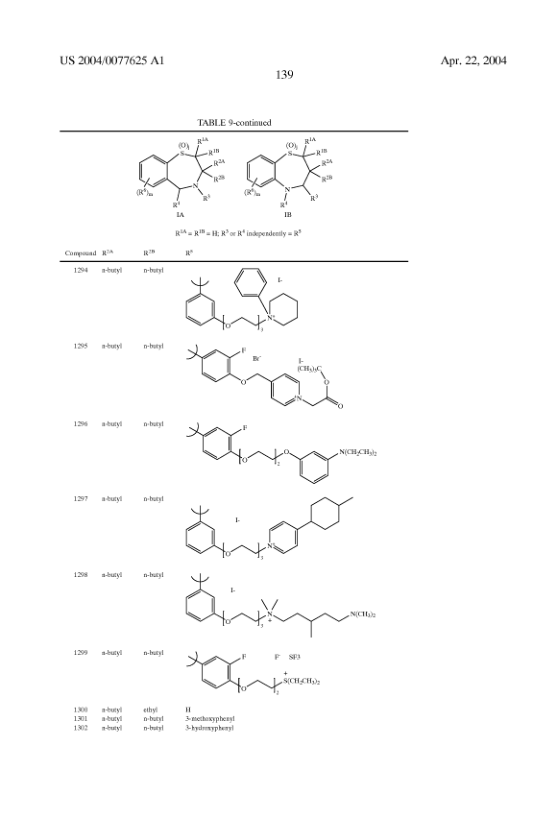compound-structure: (172, 567, 380, 639), (176, 417, 380, 485), (177, 493, 369, 559), (178, 342, 345, 411), (185, 263, 303, 338), (175, 641, 326, 698), (131, 135, 228, 222), (242, 133, 341, 217)
